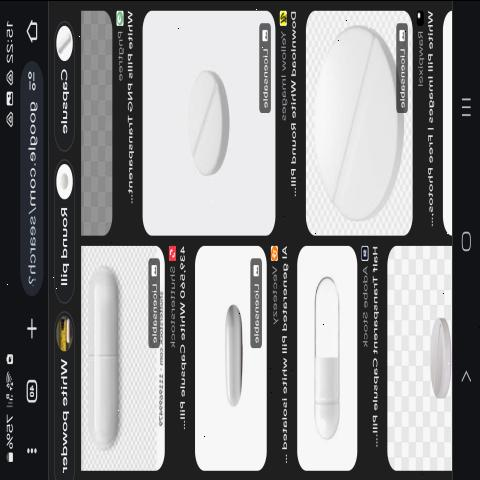Pill: (310, 13, 406, 228), (176, 51, 252, 182), (82, 260, 128, 458), (308, 266, 351, 452), (216, 296, 246, 418), (424, 307, 451, 416)
